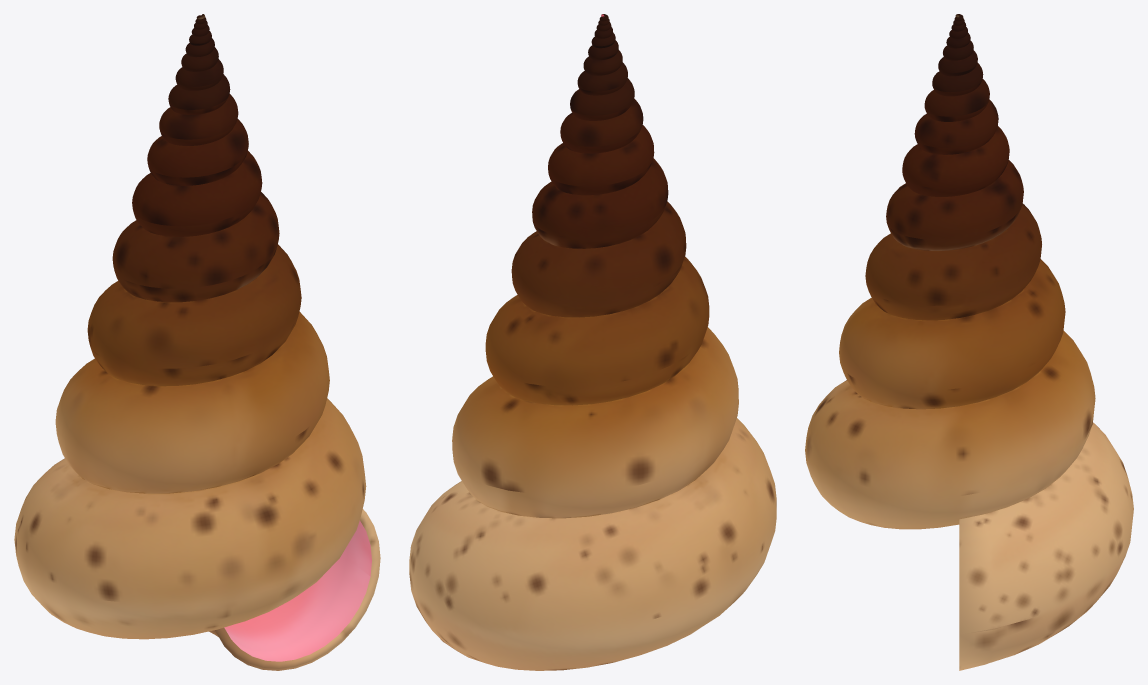
The model's file is Beach_Shell_3.glb.
3 renders of one model, left to right at view 1: azimuth 30°, elevation 25°; view 2: azimuth 150°, elevation 25°; view 3: azimuth 270°, elevation 25°, orthographic. The views are drawn at different scales.
Visible parts, largest first — view 1: BC Shell.002; view 2: BC Shell.002; view 3: BC Shell.002.
Boxes of the visible parts, x1,y1,x2,y2 form: BC Shell.002: (14, 14, 380, 670); BC Shell.002: (409, 14, 776, 670); BC Shell.002: (805, 14, 1133, 670).
Bounding box in the file's own units: 3.95 × 7.58 × 3.72.
Materials: 1 (1 with a texture image).
